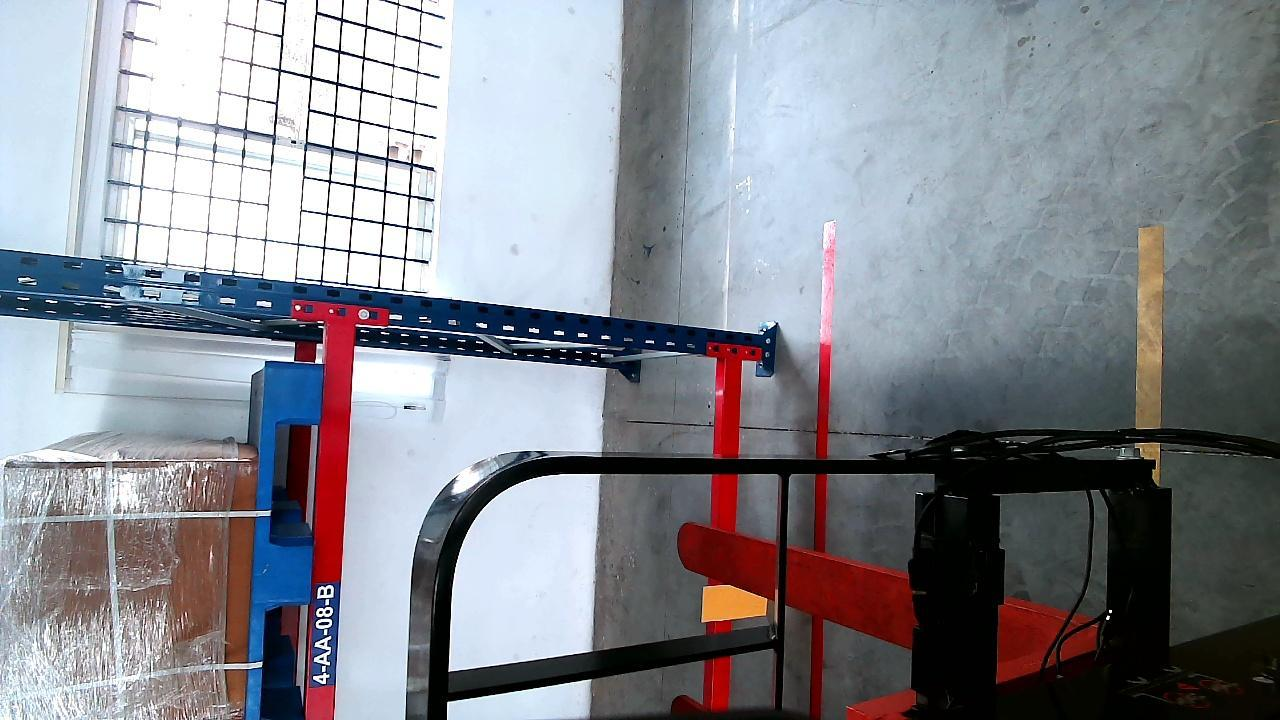red_line: (815, 223, 836, 478)
yellow_line: (1137, 221, 1162, 450)
